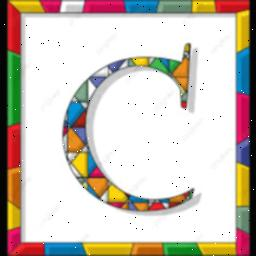c: (49, 42, 209, 224)
